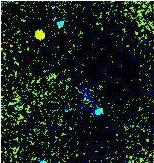star: (23, 21, 53, 51)
